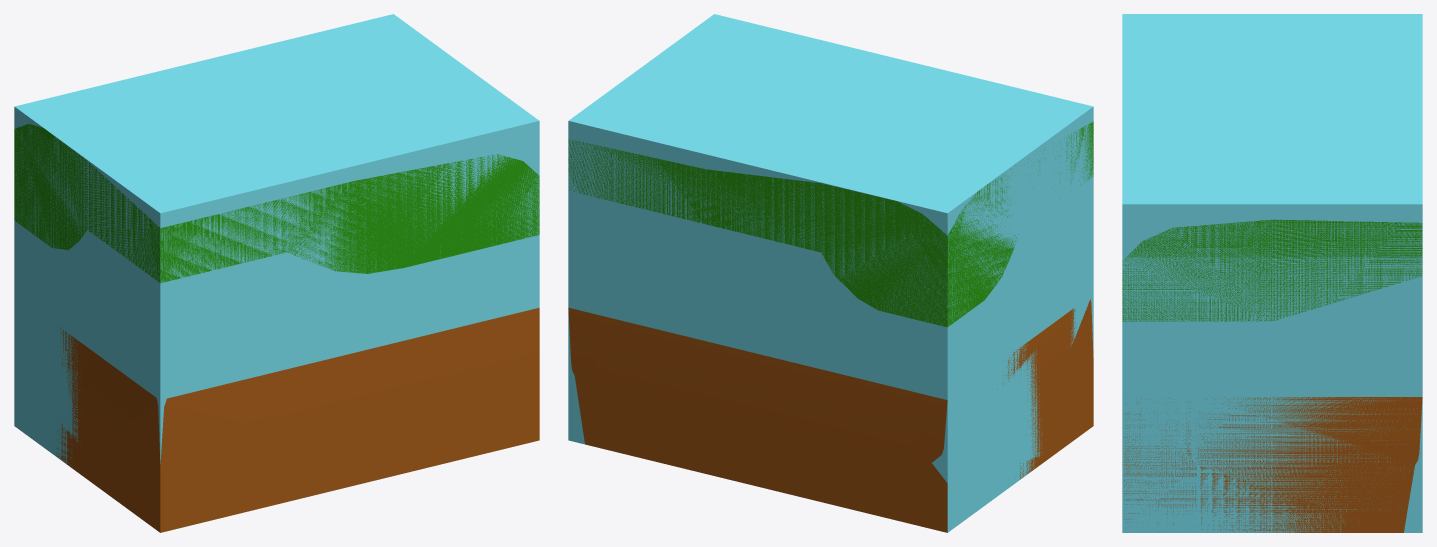
File: PBOX23_Grass_02.FBX
3 renders of one model, left to right at view 1: azimuth 30°, elevation 25°; view 2: azimuth 150°, elevation 25°; view 3: azimuth 270°, elevation 25°, orthographic. The views are drawn at different scales.
Parts seen in each view (by area): view 1: PBOX23_Grass_02, PBOX23_SUB_TAB_MUD_002, PBOX23_SUB_Grass_003; view 2: PBOX23_Grass_02, PBOX23_SUB_TAB_MUD_002, PBOX23_SUB_Grass_003; view 3: PBOX23_Grass_02, PBOX23_SUB_TAB_MUD_002, PBOX23_SUB_Grass_003.
Boxes of the visible parts, <box> form: PBOX23_Grass_02: <box>14,14,539,467</box>; PBOX23_SUB_TAB_MUD_002: <box>56,307,539,532</box>; PBOX23_SUB_Grass_003: <box>14,124,539,283</box>; PBOX23_Grass_02: <box>568,14,1093,532</box>; PBOX23_SUB_TAB_MUD_002: <box>568,299,1093,532</box>; PBOX23_SUB_Grass_003: <box>568,121,1093,327</box>; PBOX23_Grass_02: <box>1122,14,1422,532</box>; PBOX23_SUB_TAB_MUD_002: <box>1122,397,1422,532</box>; PBOX23_SUB_Grass_003: <box>1122,219,1422,321</box>.
Size of the model in its own units: 18 by 14.5 by 12.
